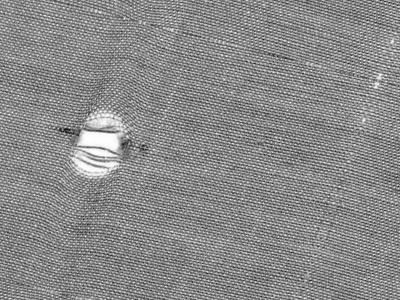hole: (66, 107, 131, 181)
